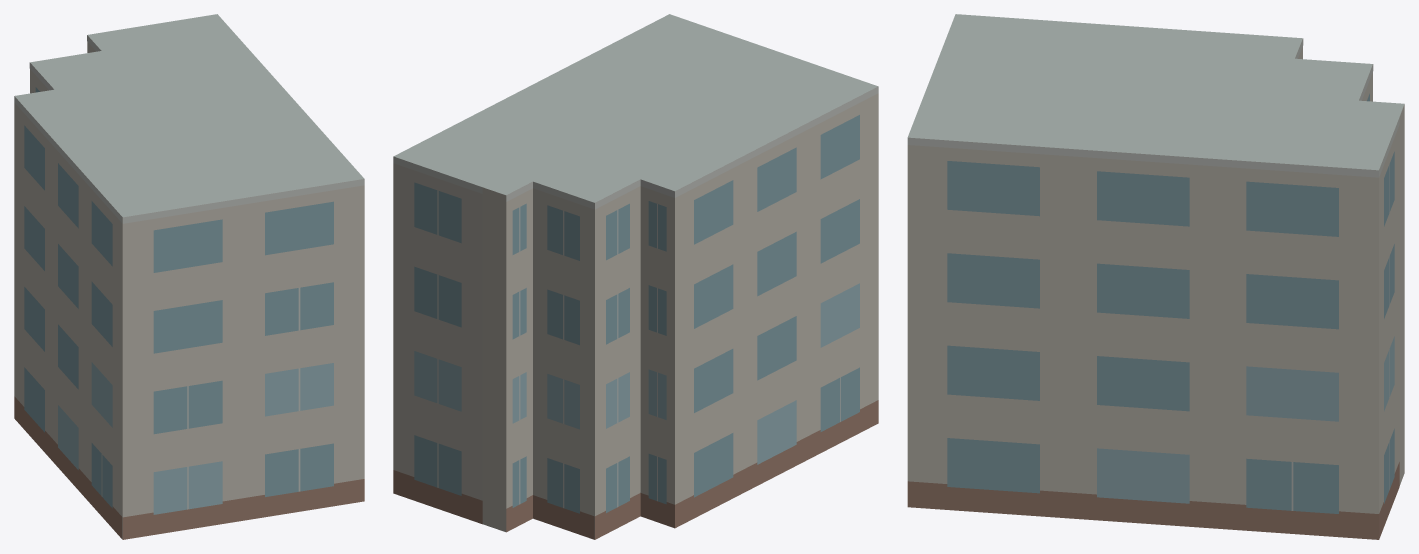
File: residential-0dea1bb0-829f-4699-920d-4ad6e35bd711.glb
3 views of the same model, side by side, from view 1: azimuth 30°, elevation 25°; view 2: azimuth 150°, elevation 25°; view 3: azimuth 270°, elevation 25° (orthographic). The views are drawn at different scales.
Parts seen in each view (by area): view 1: residential-0dea1bb0-829f-4699-920d-4ad6e35bd711.tmp; view 2: residential-0dea1bb0-829f-4699-920d-4ad6e35bd711.tmp; view 3: residential-0dea1bb0-829f-4699-920d-4ad6e35bd711.tmp.
Part boxes in pixels (bbox=[...]): residential-0dea1bb0-829f-4699-920d-4ad6e35bd711.tmp: bbox=[14, 14, 364, 539]; residential-0dea1bb0-829f-4699-920d-4ad6e35bd711.tmp: bbox=[393, 14, 878, 539]; residential-0dea1bb0-829f-4699-920d-4ad6e35bd711.tmp: bbox=[907, 14, 1404, 539].
Size of the model in its own units: 11.08 by 12.2 by 14.88.
